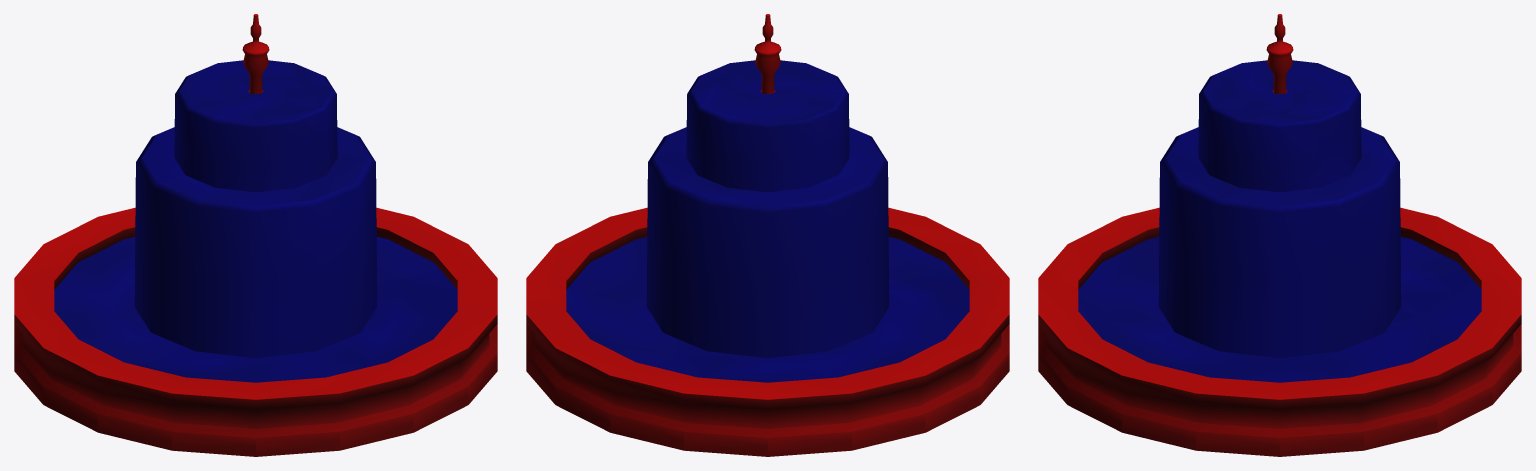
File: WaterFountain.glb
3 renders of one model, left to right at view 1: azimuth 30°, elevation 25°; view 2: azimuth 150°, elevation 25°; view 3: azimuth 270°, elevation 25°, orthographic.
Visible parts, largest first — view 1: WaterFountain; view 2: WaterFountain; view 3: WaterFountain.
Part boxes in pixels (<box>): WaterFountain: <box>14,14,497,456</box>; WaterFountain: <box>526,14,1009,456</box>; WaterFountain: <box>1038,14,1521,456</box>.
Bounding box in the file's own units: 21.39 × 16.27 × 21.07.
